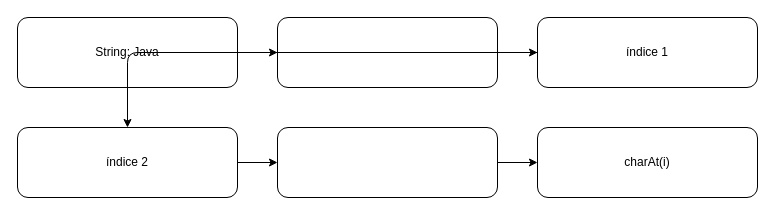
Image size: 775x215. Some labels were removed from this diagram. The shapes that lost their labels are listed below. From the top down, each one's centre as x and y in pixels, then its label:
point 387,52: índice 0
point 387,162: índice 3
